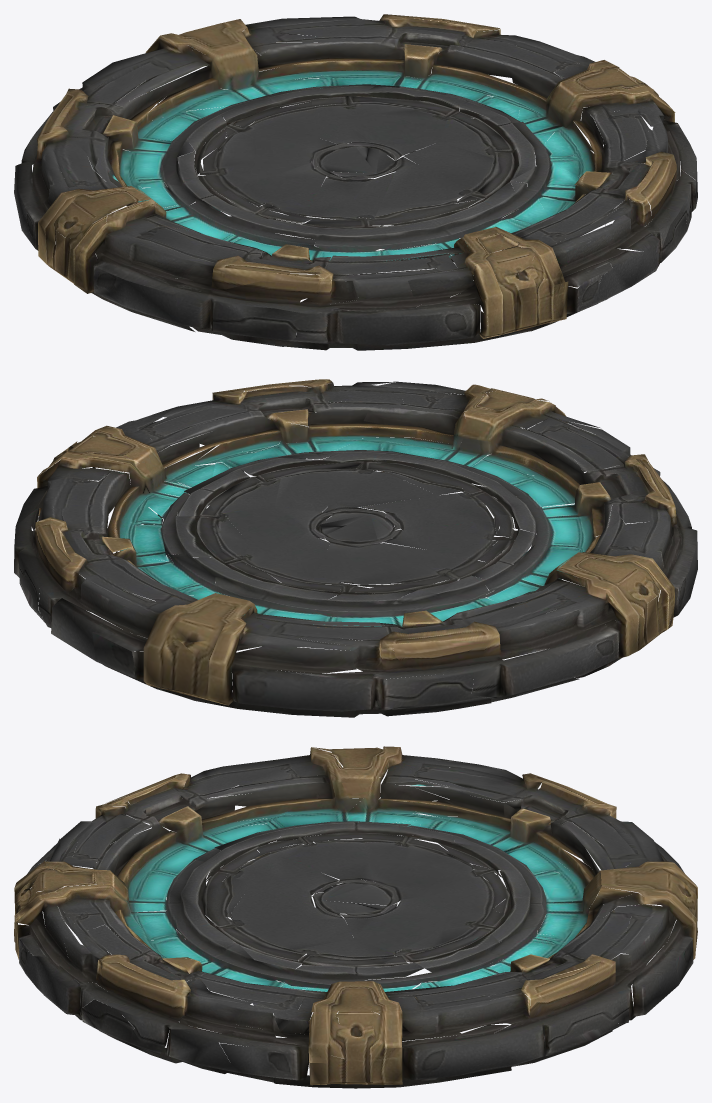
Rendered from card_carrier_socket.glb.
3 views of the same model, one above another, from view 1: azimuth 30°, elevation 25°; view 2: azimuth 150°, elevation 25°; view 3: azimuth 270°, elevation 25° (orthographic).
Parts seen in each view (by area): view 1: tripo_node_9d597733-c5f1-44cb-83d0-86f4cf7f057d; view 2: tripo_node_9d597733-c5f1-44cb-83d0-86f4cf7f057d; view 3: tripo_node_9d597733-c5f1-44cb-83d0-86f4cf7f057d.
Part boxes in pixels (bbox=[...]): tripo_node_9d597733-c5f1-44cb-83d0-86f4cf7f057d: bbox=[14, 14, 697, 350]; tripo_node_9d597733-c5f1-44cb-83d0-86f4cf7f057d: bbox=[14, 379, 697, 717]; tripo_node_9d597733-c5f1-44cb-83d0-86f4cf7f057d: bbox=[14, 746, 697, 1088].
Bounding box in the file's own units: 0.5319 × 0.0674 × 0.5315.
Materials: 1 (1 with a texture image).
